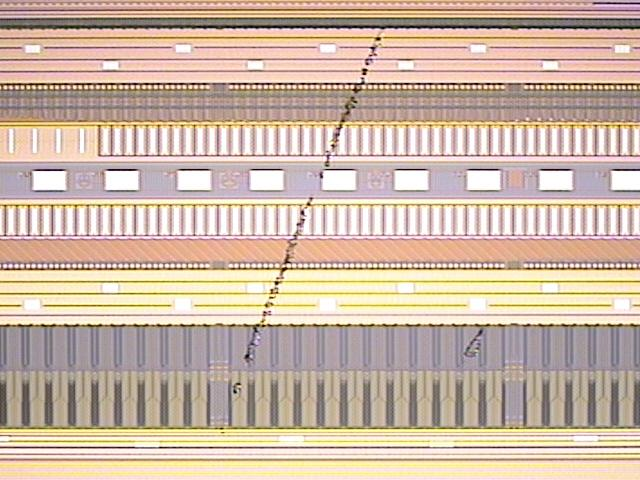SCRATCH: (228, 21, 468, 400)
